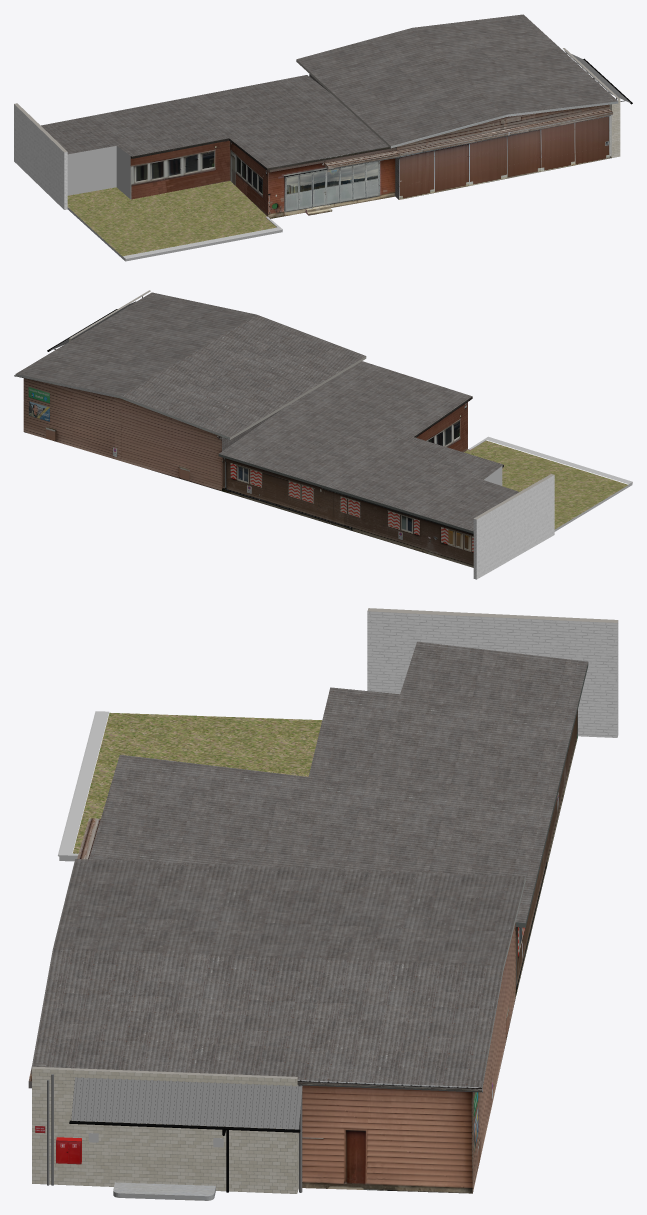
File: lszf-hangar1-3.gltf
3 renders of one model, top to bottom at view 1: azimuth 30°, elevation 25°; view 2: azimuth 150°, elevation 25°; view 3: azimuth 270°, elevation 25°, orthographic. The views are drawn at different scales.
Visible parts, largest first — view 1: Plane.003, Plane.007; view 2: Plane.003, Plane.007; view 3: Plane.007, Plane.003, Wellblech.003, Wellblech.005, Wellblech.004, Wellblech.002, Cube, Regenrinne.
Boxes of the visible parts, x1,y1,x2,y2 form: Plane.003: (14,75,399,261); Plane.007: (296,14,620,199); Plane.003: (218,361,632,579); Plane.007: (15,290,366,491); Plane.007: (28,859,525,1193); Plane.003: (58,608,618,996); Wellblech.003: (128,1079,188,1125); Wellblech.005: (242,1083,302,1129); Wellblech.004: (185,1081,245,1127); Wellblech.002: (71,1077,131,1122); Cube: (113,1182,215,1200); Regenrinne: (69,1120,300,1132).
Size of what is drawn, in the model's own units: 46.38 by 5.62 by 23.23.
